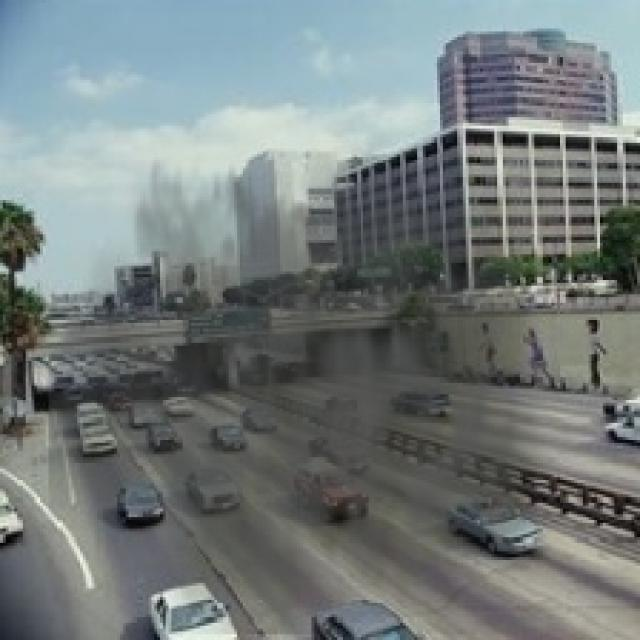smoke: (49, 109, 572, 634)
